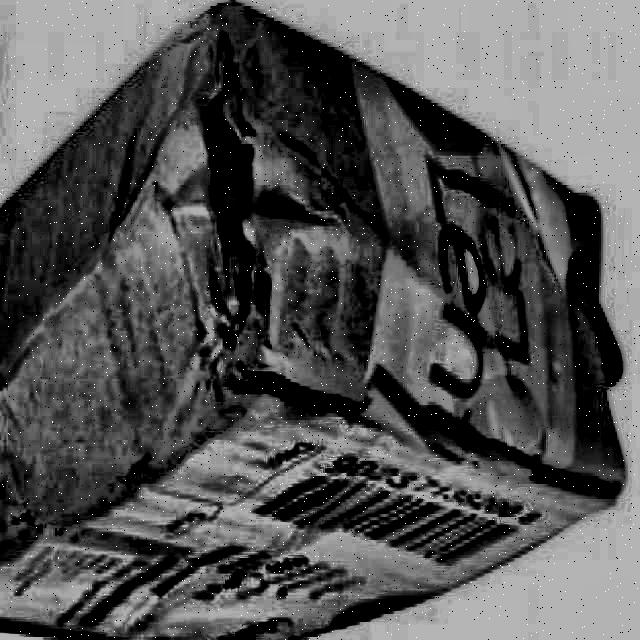box: (1, 1, 635, 640)
hole: (186, 38, 292, 310)
